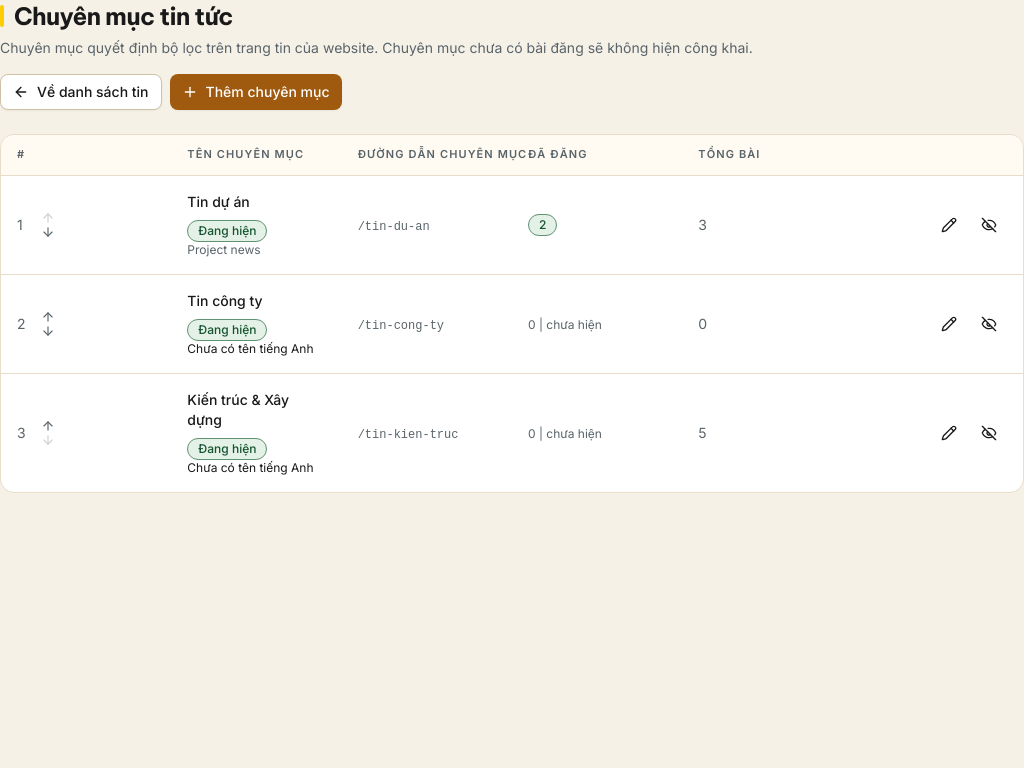
Test: NewsCategoriesPage — sửa chuyên mục › giải thích vì sao slug bị khoá, không để ô mờ không lời giải thích
Click the button named "Sửa chuyên mục Tin dự án" at (949, 224), box x1=931 y1=208 x2=967 y2=240
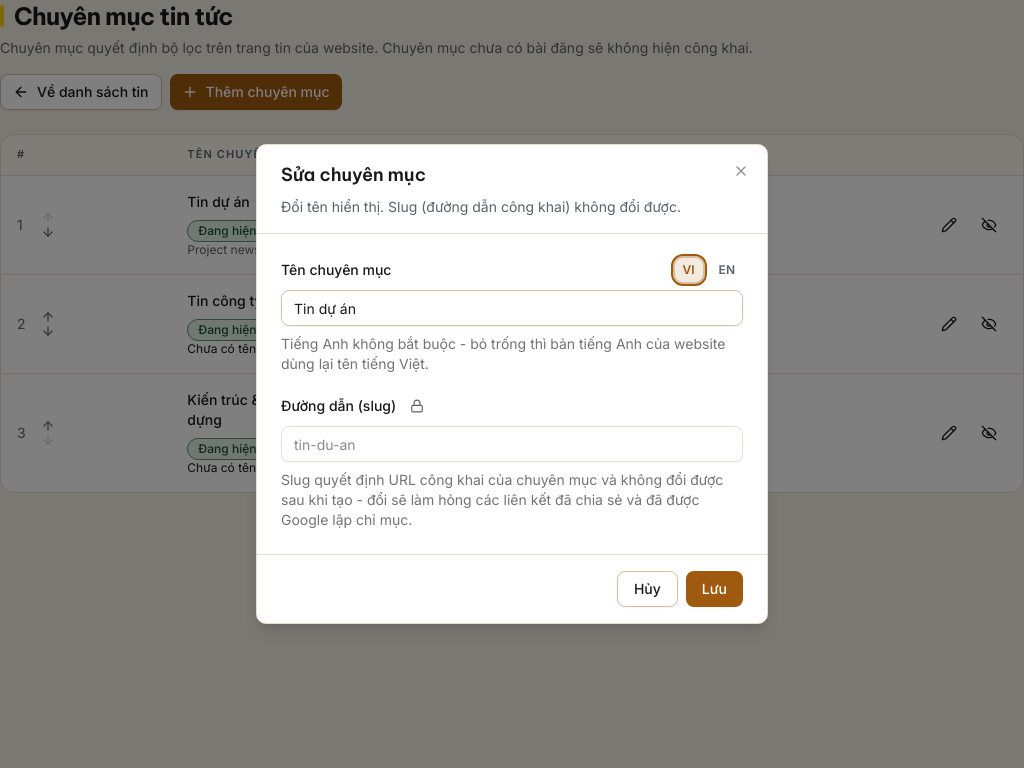
Expected: the text "không đổi được sau khi tạo" is shown, x1=281 y1=471 x2=723 y2=528
